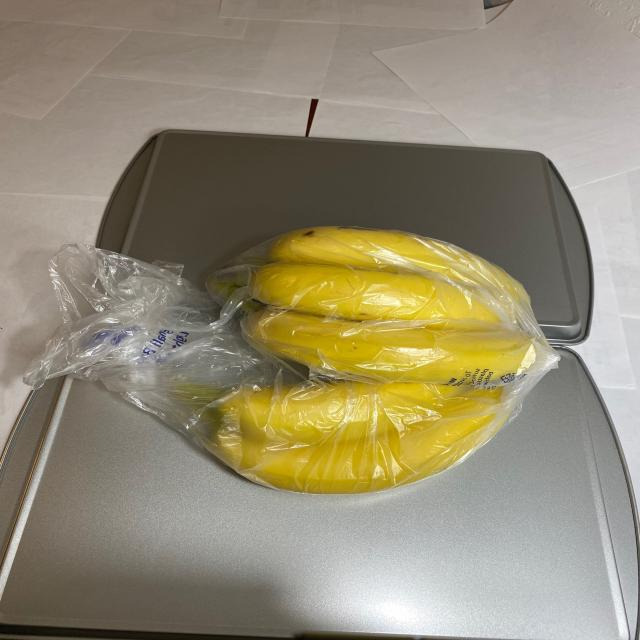banana: (184, 220, 552, 498)
